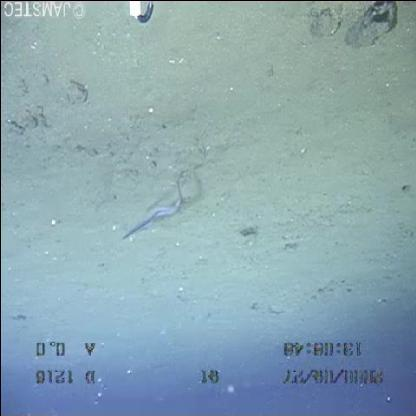Bio: (118, 168, 192, 246)
